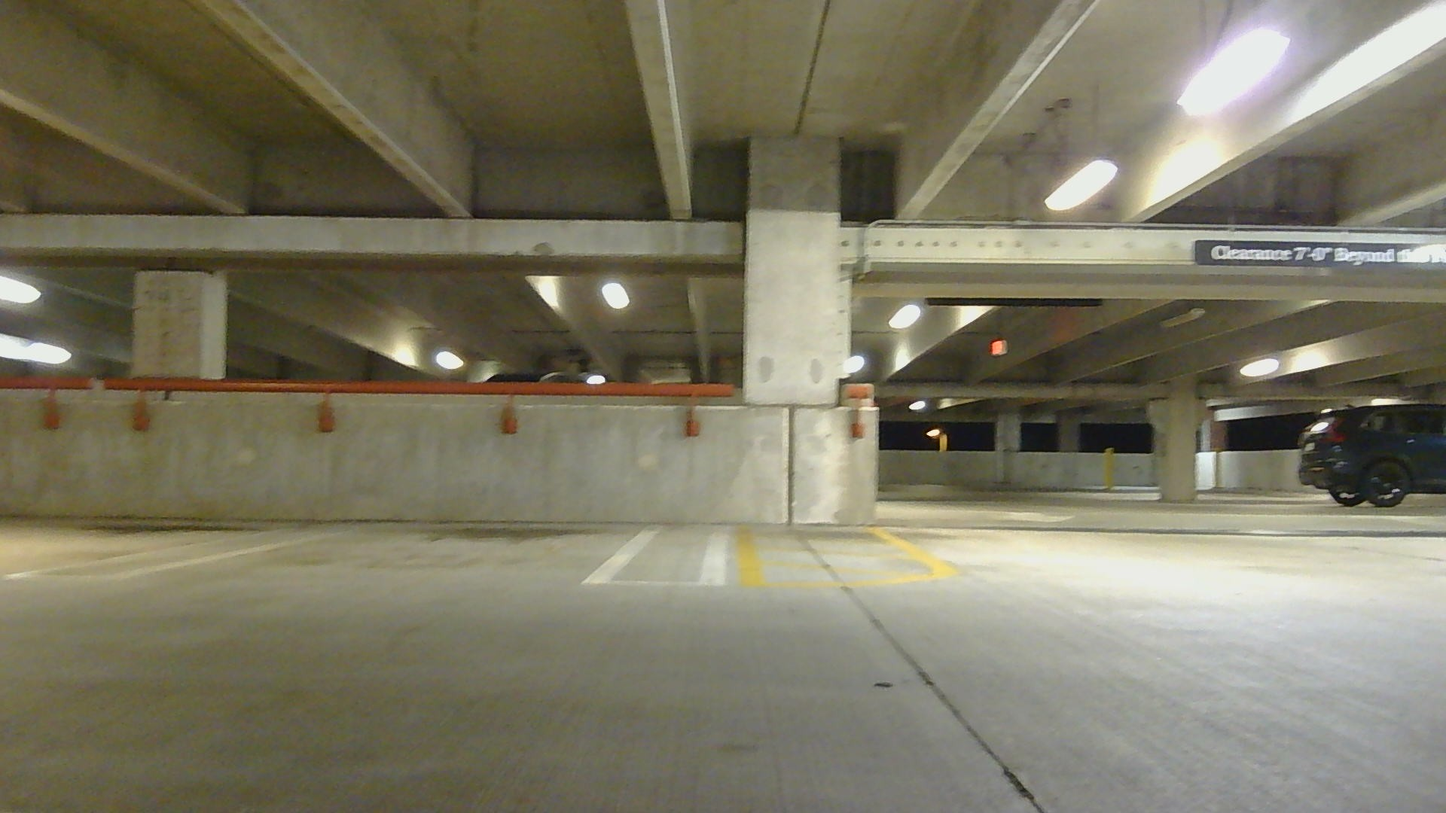empty_spot: (112, 460, 666, 588)
